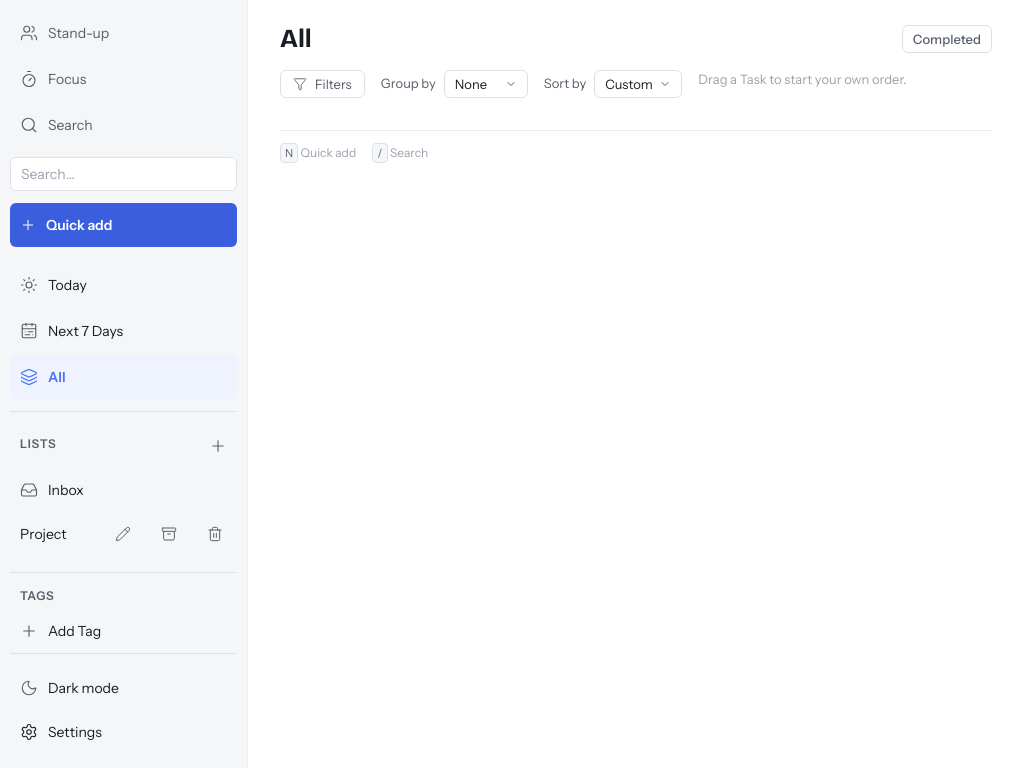
Test case: Task drag within the list view › reorders Sections by dragging one heading onto another
(page scrolled)
Click the button "Project": coordinates (56, 534) [10, 512, 101, 556]
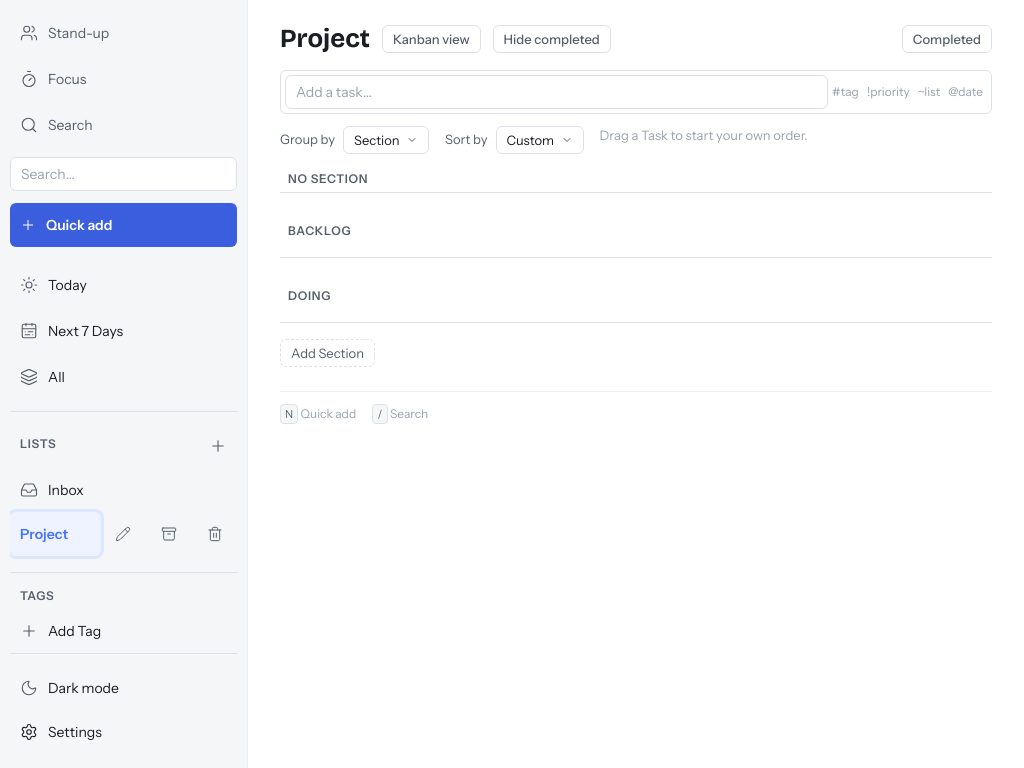
Expected: the heading "Doing" is shown, [288, 287, 331, 305]
